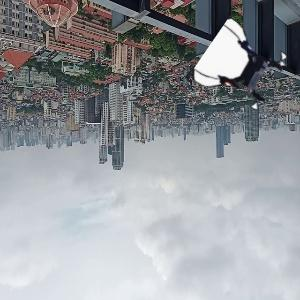drone: (204, 28, 286, 110)
